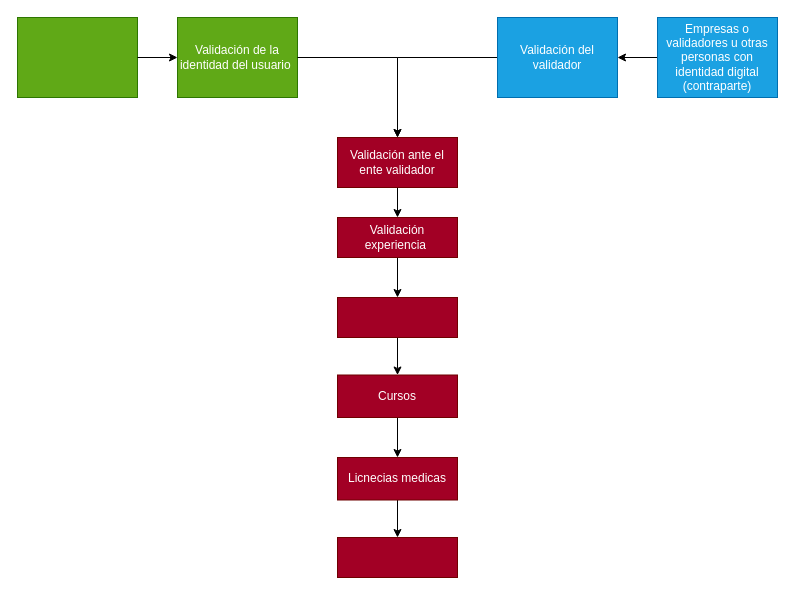
Image size: 795x595. Some labels were removed from this diagram. The shapes that lost their labels are listed below. From the top down, each one's centre as x and y in pixels, then its label:
At point 77,57: "Creación de usuario dentro de la plataforma".
At point 397,317: "Firma de documentos".
At point 397,557: "ETC.....".
